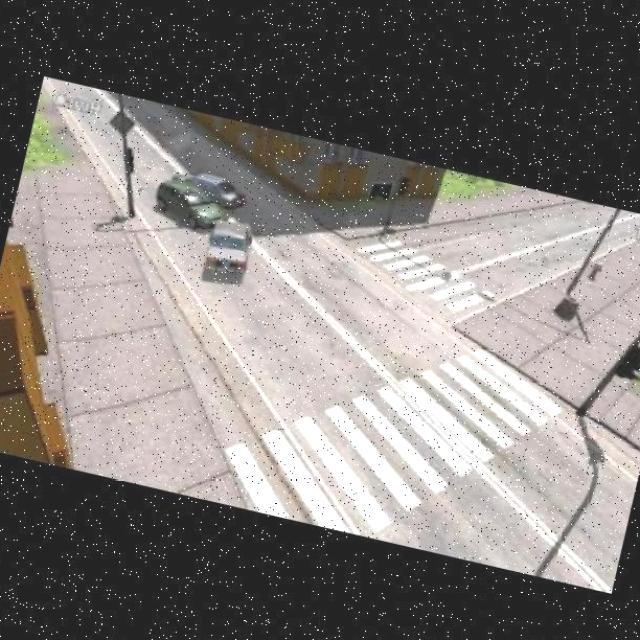accident: (127, 163, 268, 280)
